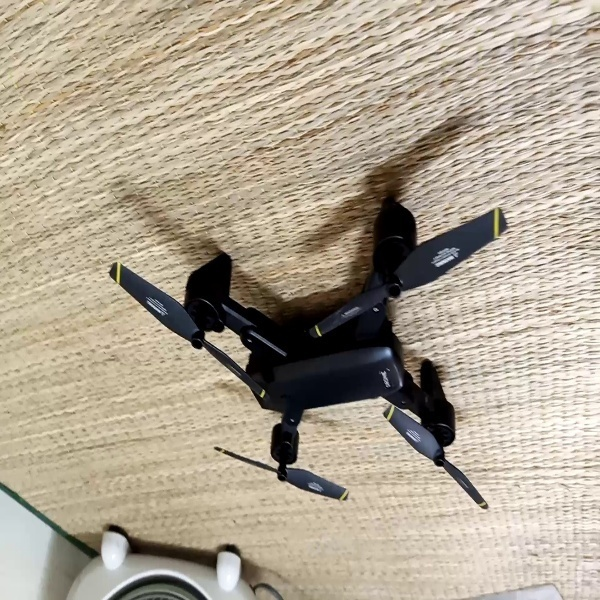drone: (107, 195, 513, 517)
